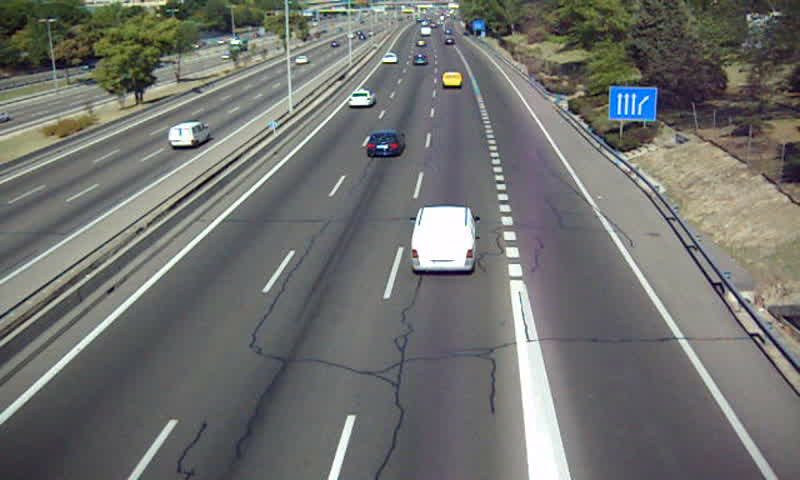car: (365, 132, 405, 158), (347, 89, 374, 108), (412, 52, 428, 67), (381, 51, 396, 63)
van: (411, 206, 476, 274), (441, 71, 463, 88)
